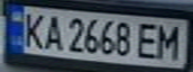2: (63, 15, 87, 53)
6: (81, 16, 100, 55), (100, 17, 118, 56)
8: (115, 19, 136, 57)
A: (39, 11, 66, 52)
E: (133, 20, 163, 60)
K: (18, 9, 48, 50)
M: (154, 21, 187, 61)
